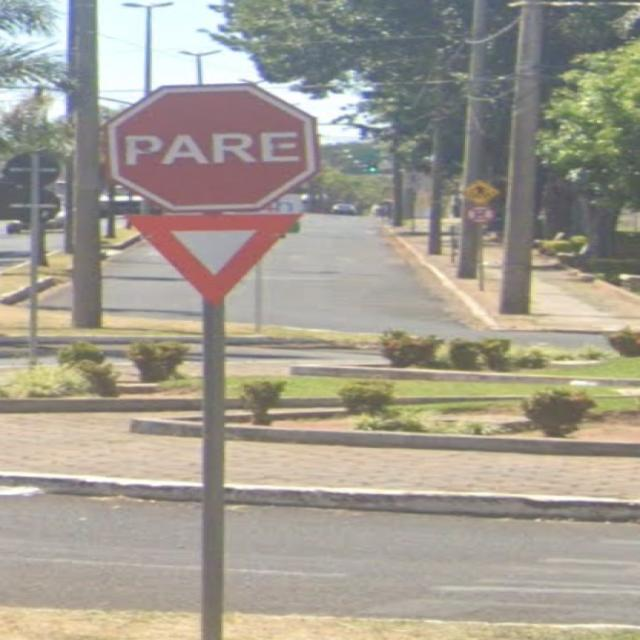stop: (93, 71, 317, 215)
